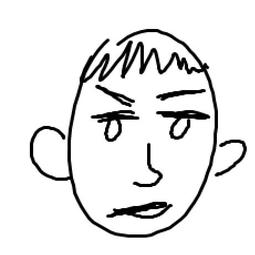ear: (217, 125, 254, 192)
empty_eye: (157, 116, 200, 145), (102, 112, 126, 151)
eyebrow: (154, 85, 210, 107)
frowning_eyebrow: (94, 84, 135, 107)
large_ear: (20, 120, 73, 189)
nose: (130, 137, 165, 193)
open_mouth: (105, 196, 175, 222)
